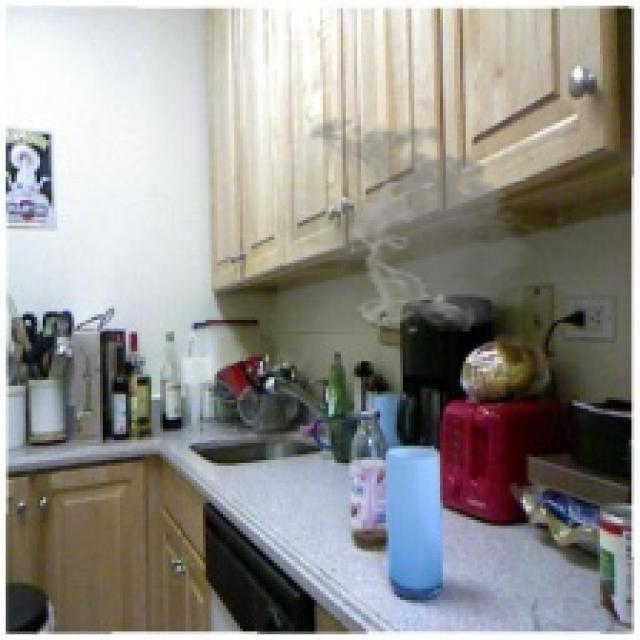Smoke: (277, 112, 546, 334)
